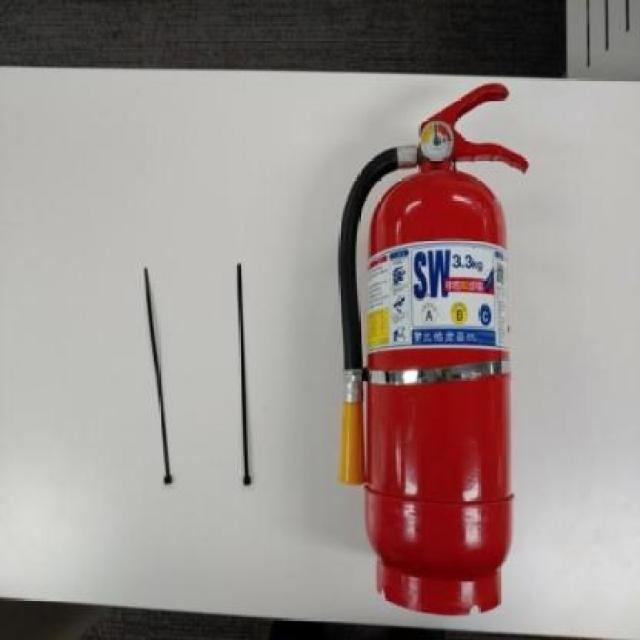fire extinguisher: (338, 82, 530, 618)
